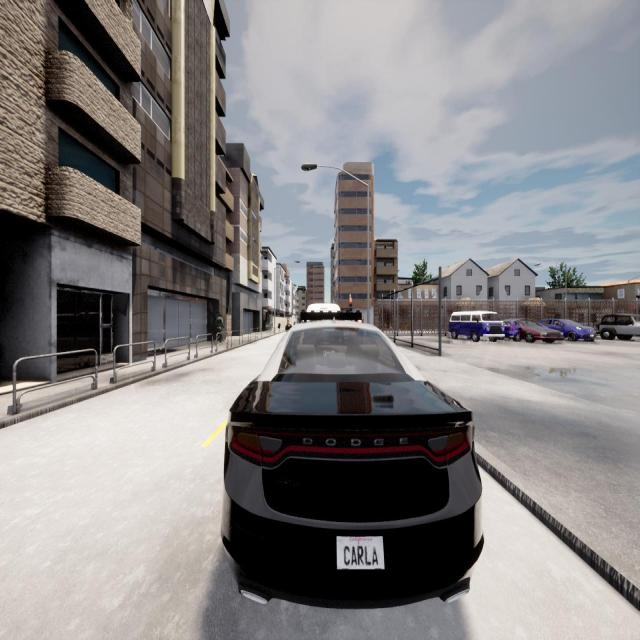Pedestrian: (216, 314, 223, 340)
Vehicle: (221, 324, 481, 606), (449, 312, 504, 342), (505, 319, 562, 342), (543, 318, 595, 342), (599, 315, 640, 340), (307, 303, 340, 313)
traffic_light: (350, 298, 352, 310)
